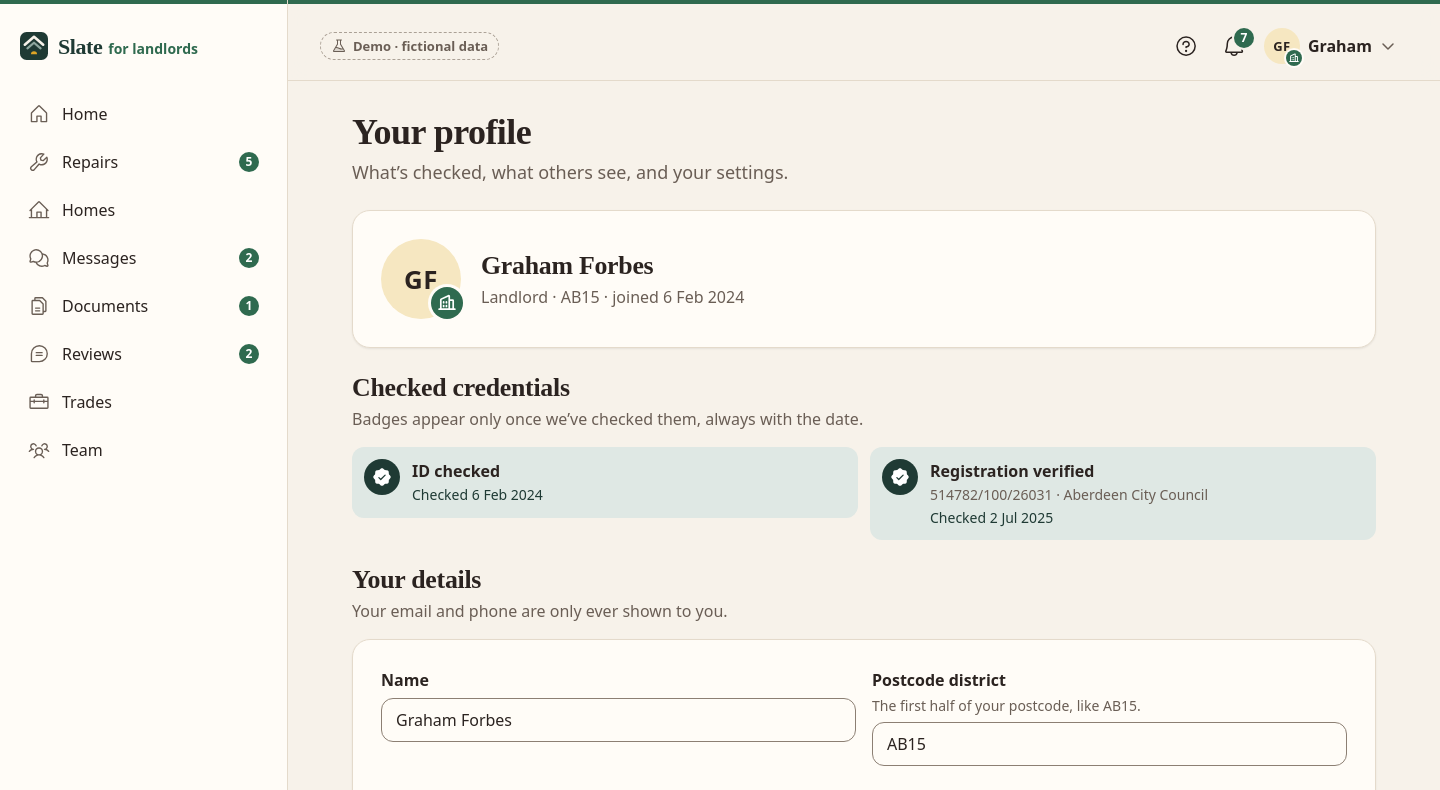
it: the landlord’s profile › saves a change of name
The width and height of the screenshot is (1440, 790).
Replace the text in the field labelled "Name" with "Graham J Forbes": (618, 720) [382,699,855,741]
(page scrolled)
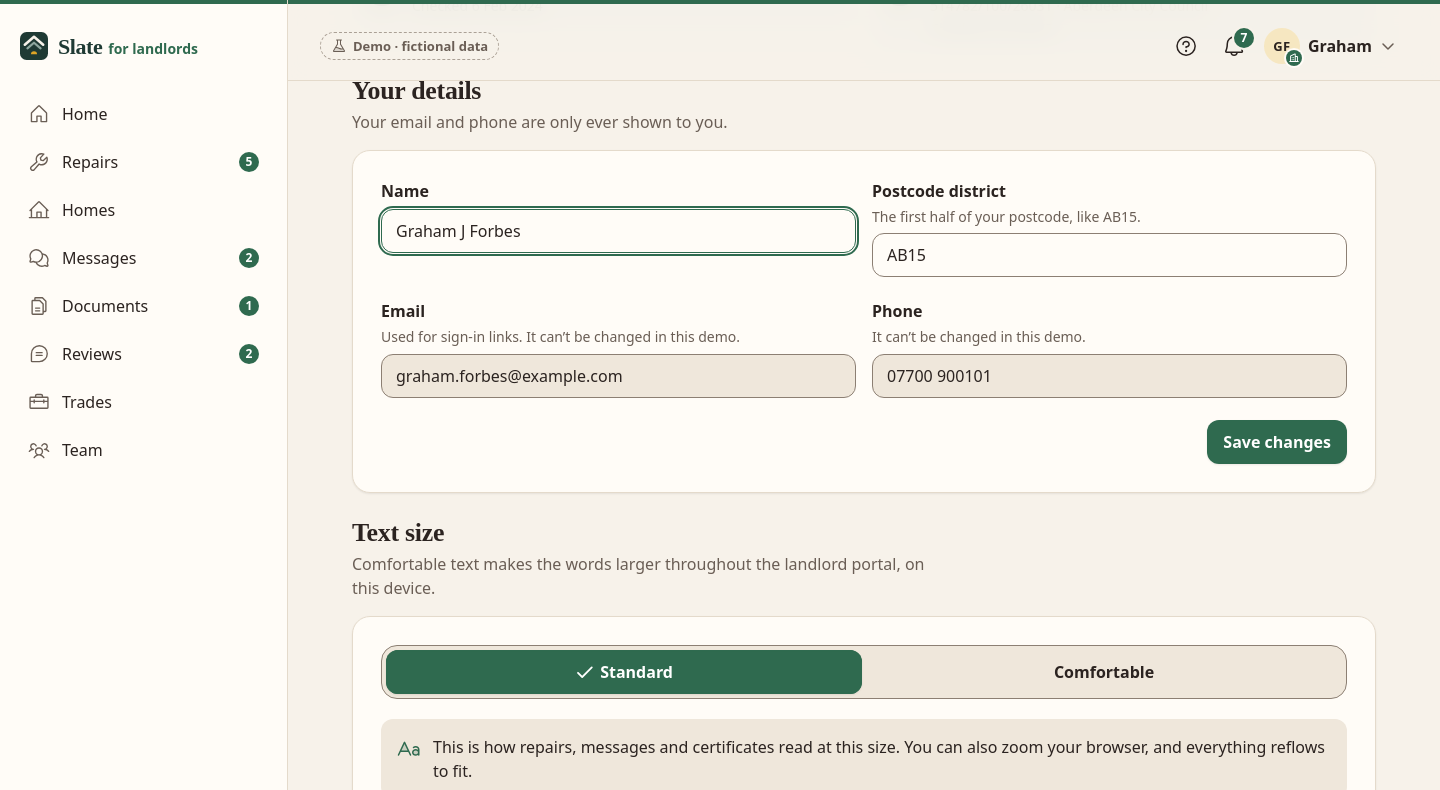
Click the button "Save changes": click(1277, 442) [1207,420,1347,464]
(page scrolled)
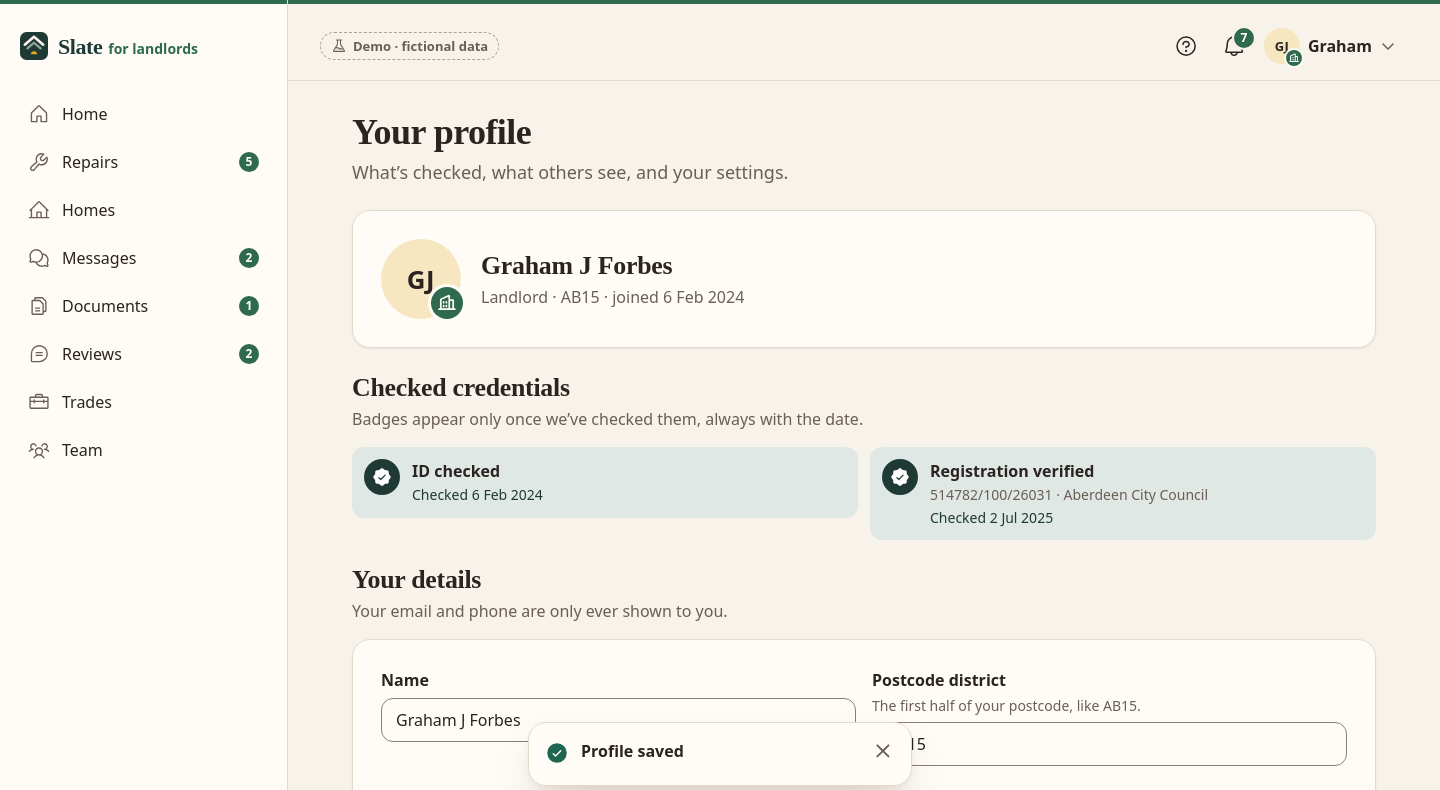
Expected: the text "Graham J Forbes" is shown, [481,251,672,280]
